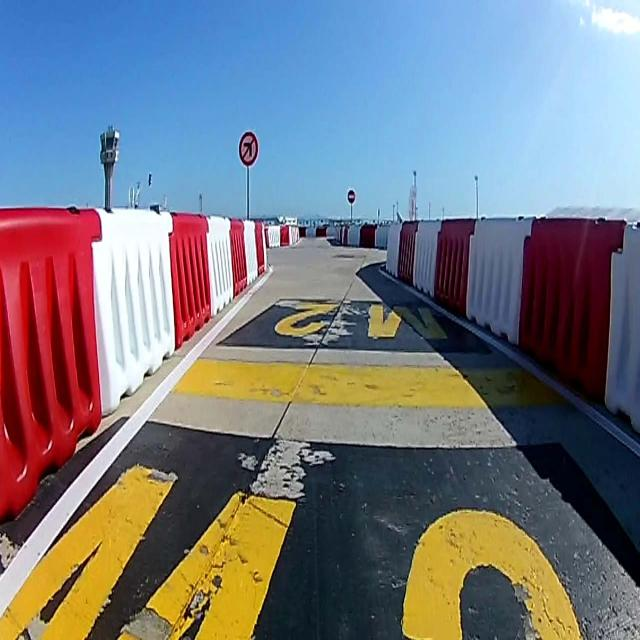girisyok: (347, 190, 355, 203)
soladonulmez: (238, 131, 258, 166)
